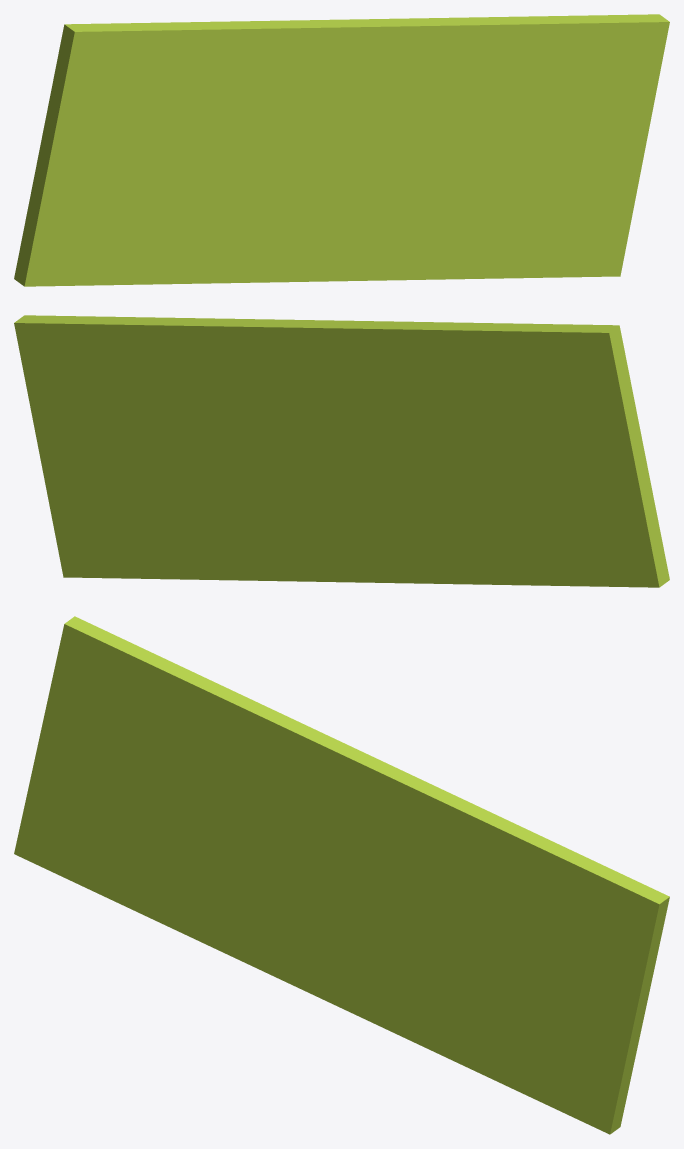
The picture shows the model from 3 angles, top to bottom: view 1: azimuth 30°, elevation 25°; view 2: azimuth 150°, elevation 25°; view 3: azimuth 330°, elevation 25°; orthographic projection.
Visible parts, largest first — view 1: osm-way27917482-F0; view 2: osm-way27917482-F0; view 3: osm-way27917482-F0.
Boxes of the visible parts, <box> form: osm-way27917482-F0: <box>14,14,669,286</box>; osm-way27917482-F0: <box>14,315,669,587</box>; osm-way27917482-F0: <box>14,616,669,1134</box>.
Size of the model in its own units: 5.33 by 2.98 by 0.15.
